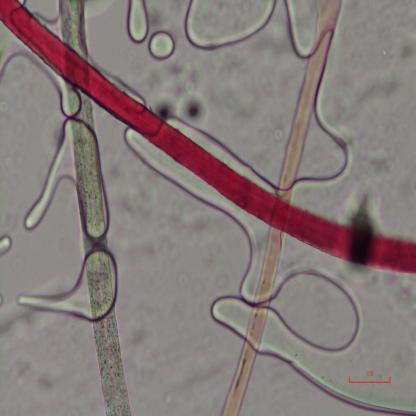Air bubble: (261, 304, 416, 416), (274, 266, 372, 355), (23, 118, 72, 235), (181, 0, 277, 58), (12, 267, 90, 320), (315, 126, 359, 186), (208, 291, 253, 334), (280, 0, 311, 59), (145, 25, 179, 63), (0, 234, 14, 255)
Background material: (344, 182, 382, 274), (150, 85, 209, 132), (34, 372, 63, 397)
Hair textile: (0, 0, 416, 275)
Microfibre: (220, 0, 342, 416), (58, 0, 132, 416)
